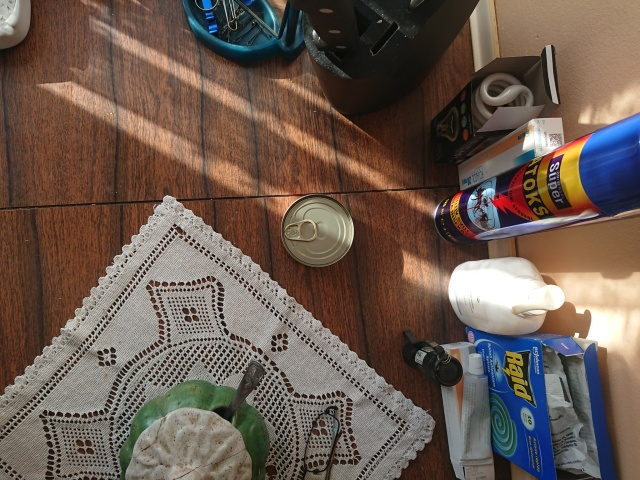Gavrilovic Pork Liver Pate 100g: (277, 191, 358, 271)
